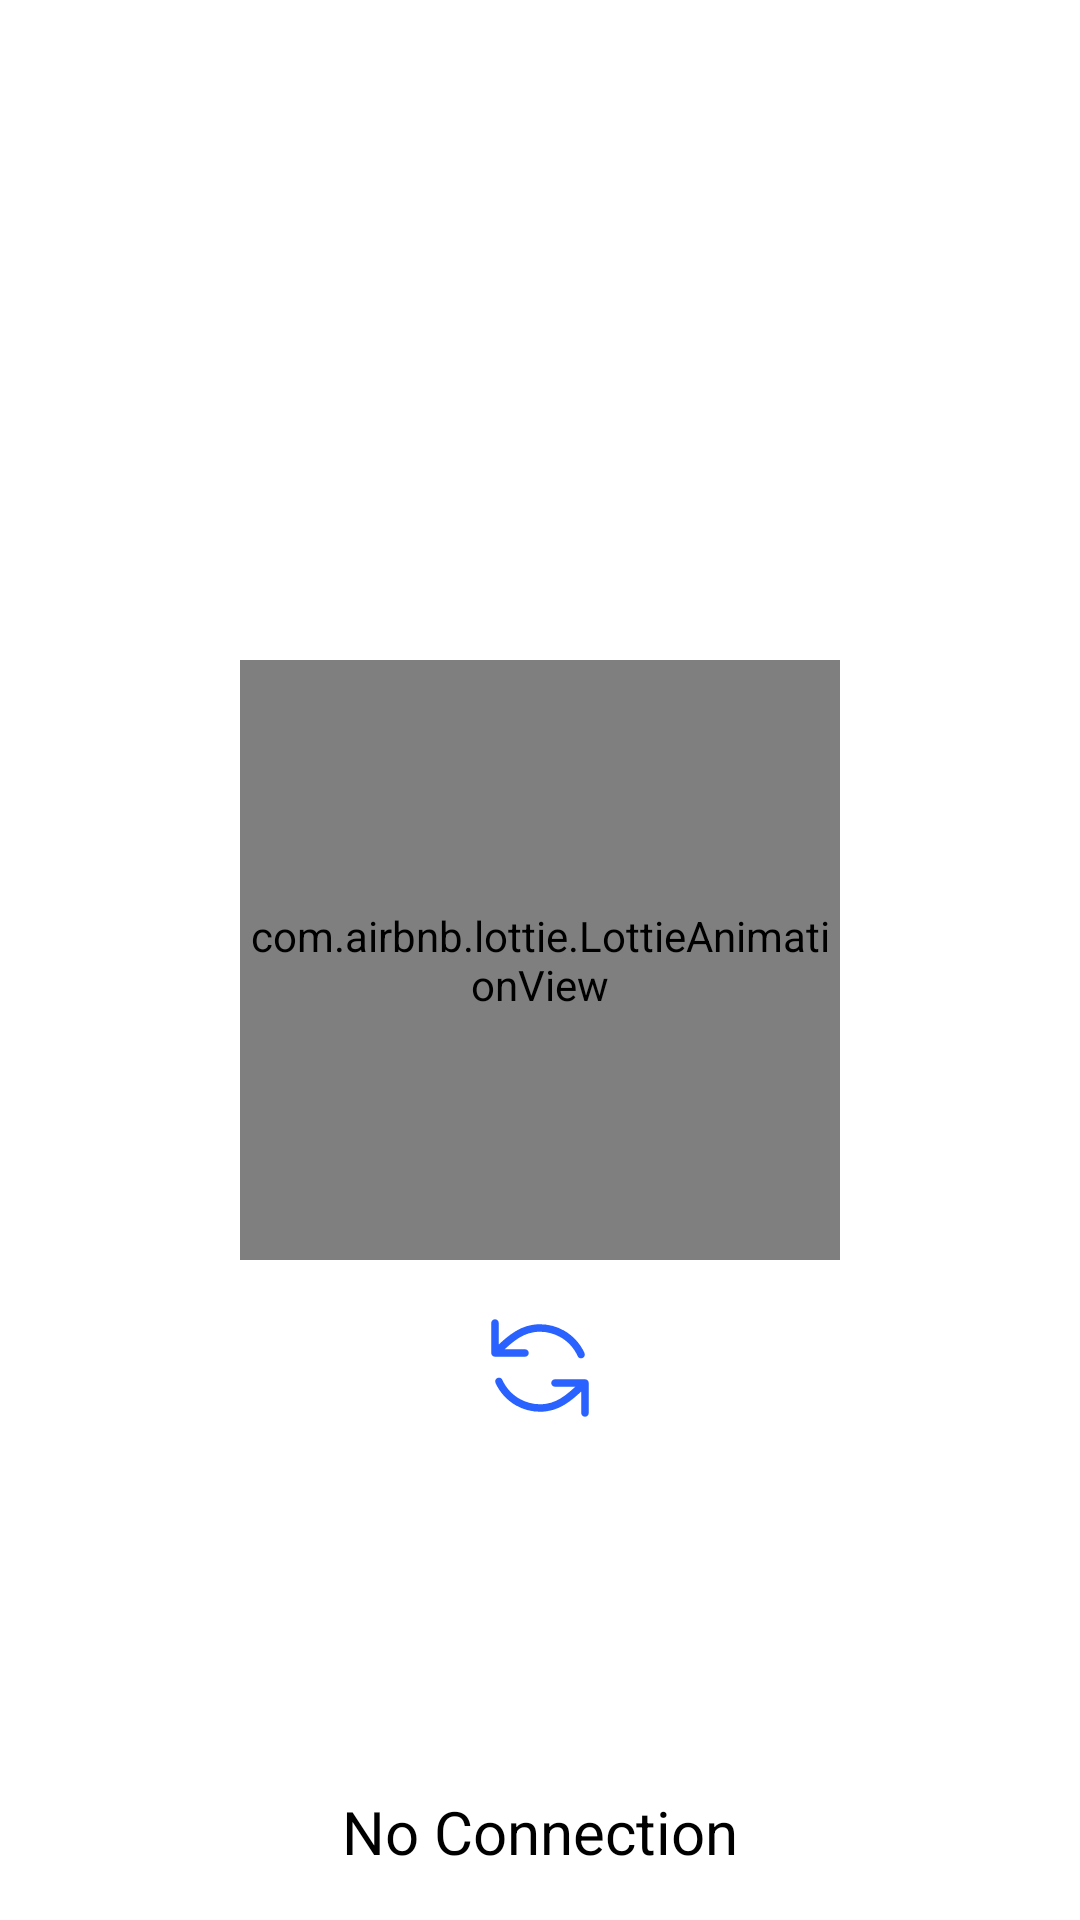

Where to tap for icons on this 1080*1920 app screen, as (x=x, y=y):
refresh: (x=540, y=1368)
